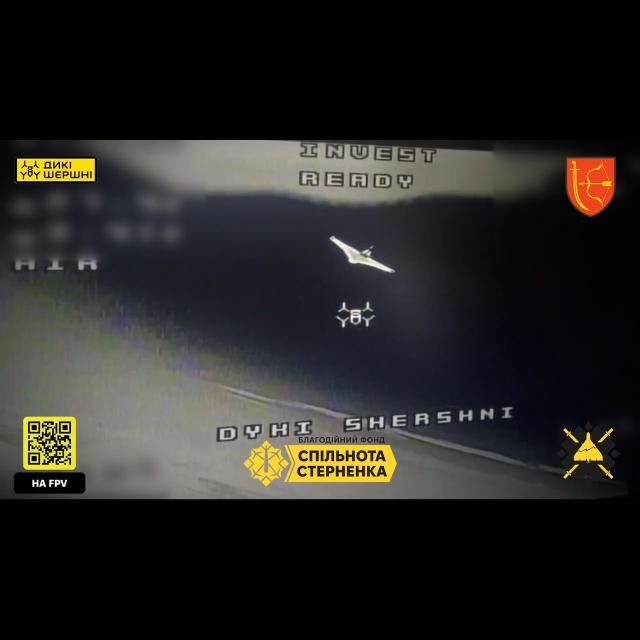Gerbera: (328, 236, 397, 274)
